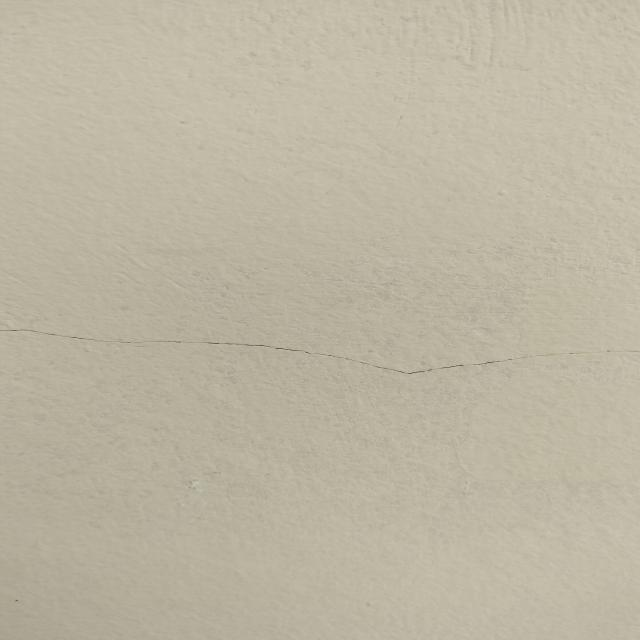Crack: (0, 326, 640, 376)
